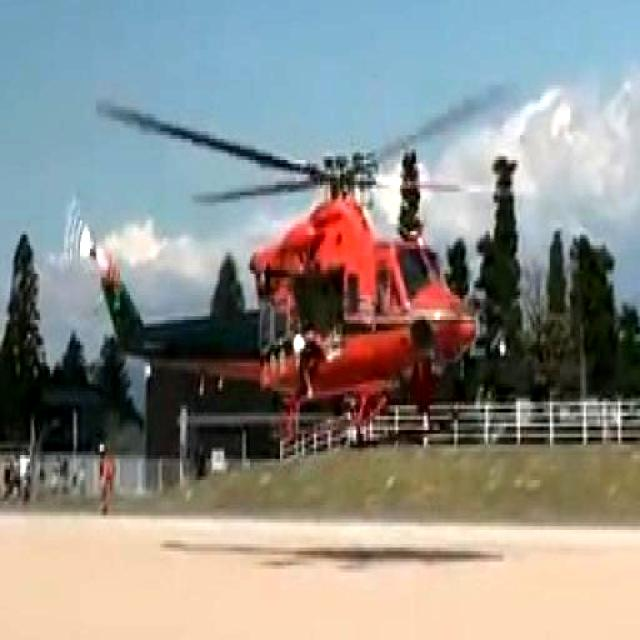drone: (62, 96, 505, 428)
